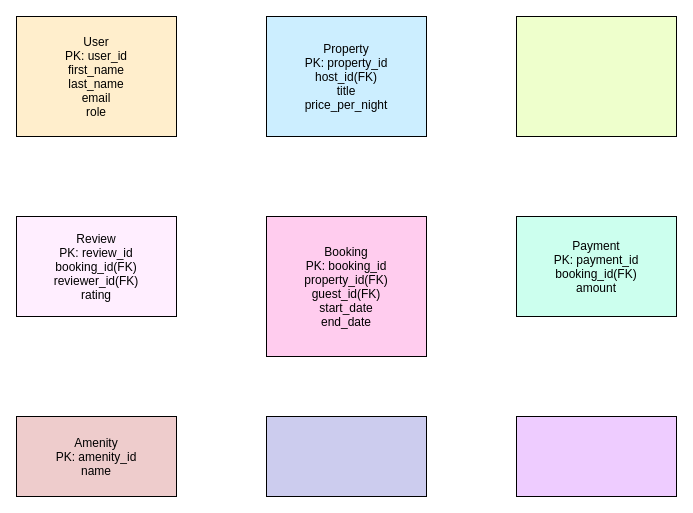
Image size: 693x513. Some labels were removed from this diagram. Here are the shapes that lost their labels. From the top down, the box of each, then its label:
(516, 16, 676, 136): Address PK: address_id property_id(FK) street city
(266, 416, 426, 496): PropertyAmenity PK: property_id + amenity_id
(516, 416, 676, 496): Photo PK: photo_id property_id(FK) url
